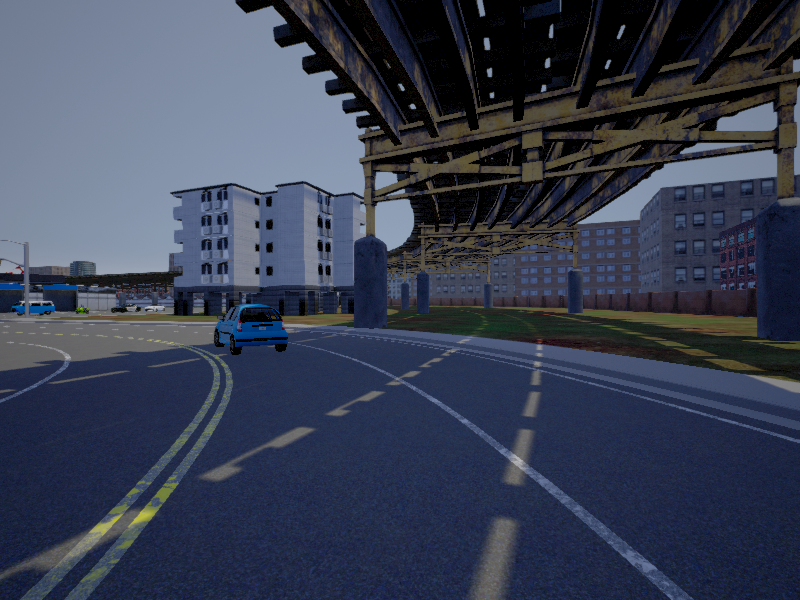Benign: (211, 304, 289, 353), (13, 300, 57, 316), (111, 304, 141, 313)
